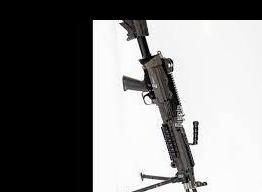larga: (118, 20, 208, 192)
